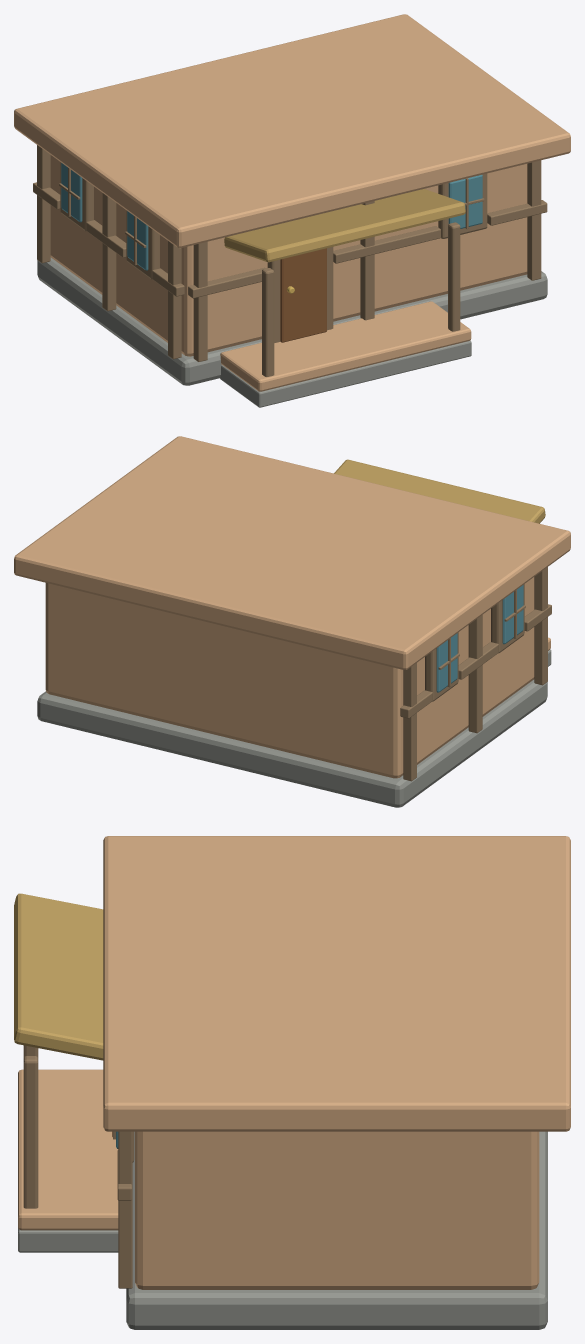
File: arid-farmstead-0.glb
3 renders of one model, top to bottom at view 1: azimuth 30°, elevation 25°; view 2: azimuth 150°, elevation 25°; view 3: azimuth 270°, elevation 25°, orthographic. The views are drawn at different scales.
Parts seen in each view (by area): view 1: Adobe cream, Adobe wood, Palm beams, Foundation stone, Golden thatch, Door oak, Blue glass; view 2: Adobe cream, Adobe wood, Foundation stone, Palm beams, Golden thatch, Blue glass; view 3: Adobe cream, Adobe wood, Foundation stone, Golden thatch, Palm beams.
Part boxes in pixels (x1,y1,x2,y2): Adobe cream: [14, 14, 570, 248]; Adobe wood: [50, 155, 527, 391]; Palm beams: [33, 145, 547, 376]; Foundation stone: [37, 257, 547, 407]; Golden thatch: [224, 189, 465, 262]; Door oak: [280, 248, 326, 342]; Blue glass: [61, 163, 482, 270]; Adobe cream: [14, 436, 570, 669]; Adobe wood: [45, 577, 550, 778]; Foundation stone: [37, 649, 551, 807]; Palm beams: [400, 567, 551, 781]; Golden thatch: [334, 459, 545, 523]; Blue glass: [436, 585, 523, 692]; Adobe cream: [103, 836, 570, 1131]; Adobe wood: [18, 1069, 539, 1289]; Foundation stone: [18, 1131, 547, 1329]; Golden thatch: [14, 893, 103, 1060]; Palm beams: [23, 1045, 134, 1288].
Size of the model in its own units: 4.44 by 1.82 by 3.86.
